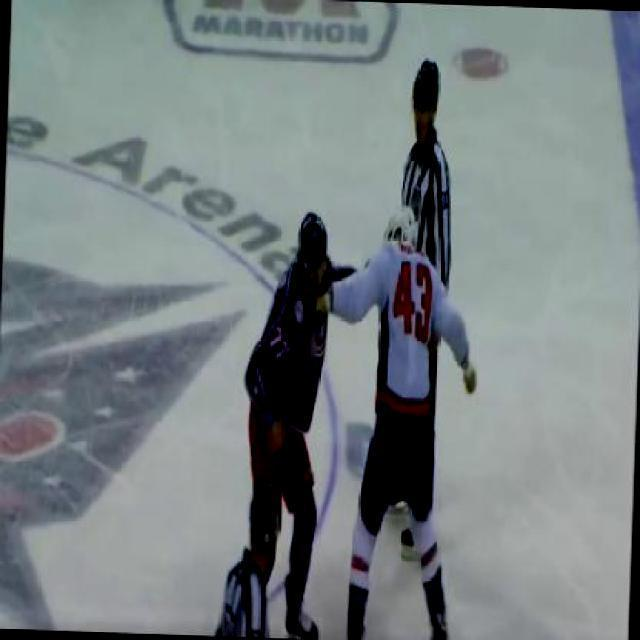fight: (236, 203, 489, 639)
